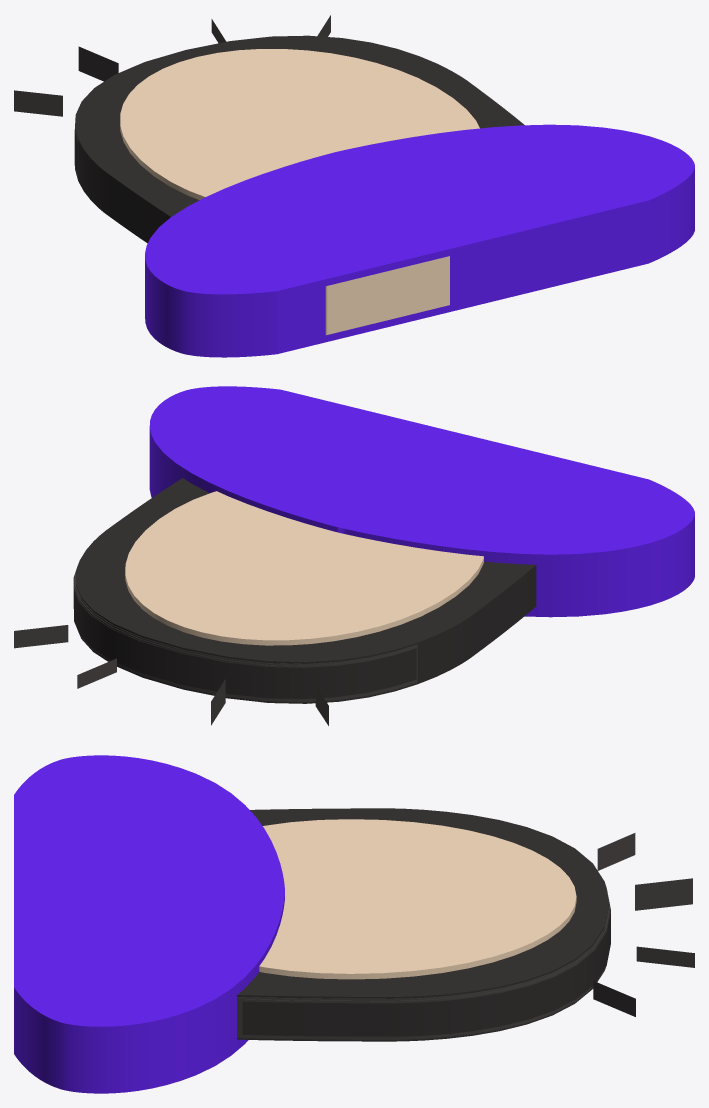
The model's file is emoji_u1f647_1f3fb_200d_2640.glb.
3 renders of one model, top to bottom at view 1: azimuth 30°, elevation 25°; view 2: azimuth 150°, elevation 25°; view 3: azimuth 270°, elevation 25°, orthographic. The views are drawn at different scales.
Visible parts, largest first — view 1: emoji_u1f647_1f3fb_200d_2640; view 2: emoji_u1f647_1f3fb_200d_2640; view 3: emoji_u1f647_1f3fb_200d_2640.
Part boxes in pixels (x1=…): emoji_u1f647_1f3fb_200d_2640: x1=14, y1=15, x2=694, y2=357; emoji_u1f647_1f3fb_200d_2640: x1=14, y1=386, x2=694, y2=725; emoji_u1f647_1f3fb_200d_2640: x1=14, y1=755, x2=694, y2=1093.
Size of the model in its own units: 0.0313 by 0.0036 by 0.0332.
